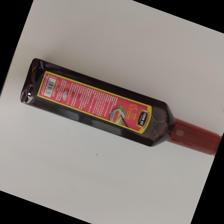Namngu: (14, 59, 224, 155)
